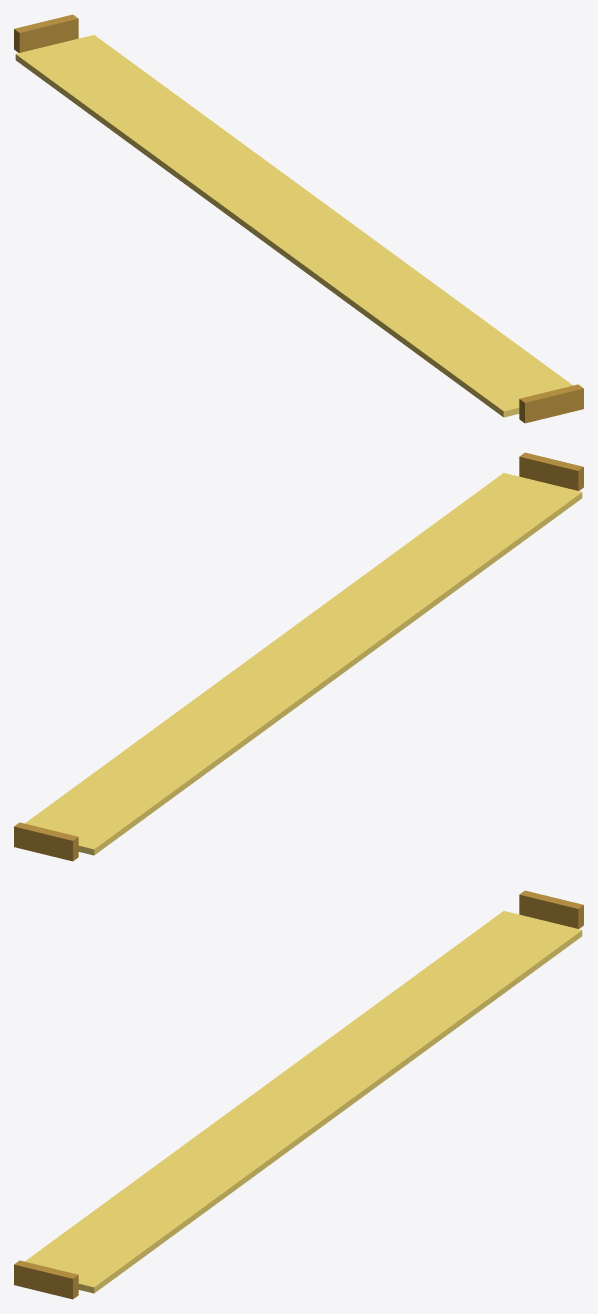
The model's file is clip_joint.glb.
3 views of the same model, one above another, from view 1: azimuth 30°, elevation 25°; view 2: azimuth 150°, elevation 25°; view 3: azimuth 330°, elevation 25° (orthographic).
Bounding box in the file's own units: 0.08 × 0.02 × 0.9.
